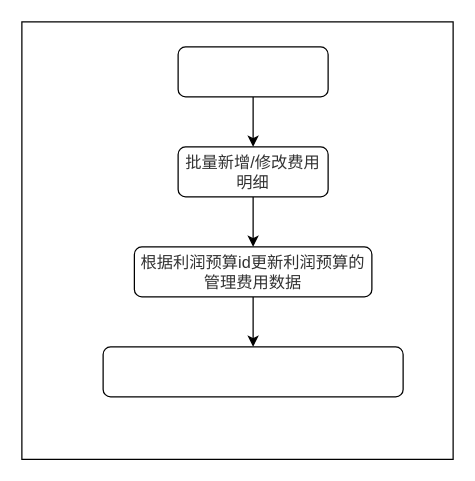
Image size: 475x481. Some labels were removed from this diagram. The centre of each missing label's shape, as x and y in pixels:
"填写费用明细" goes at point (252, 71).
"根据 发表预算id、部门名称 查询 费用明细统计(链融、资本、资管、私募)" goes at point (252, 371).
